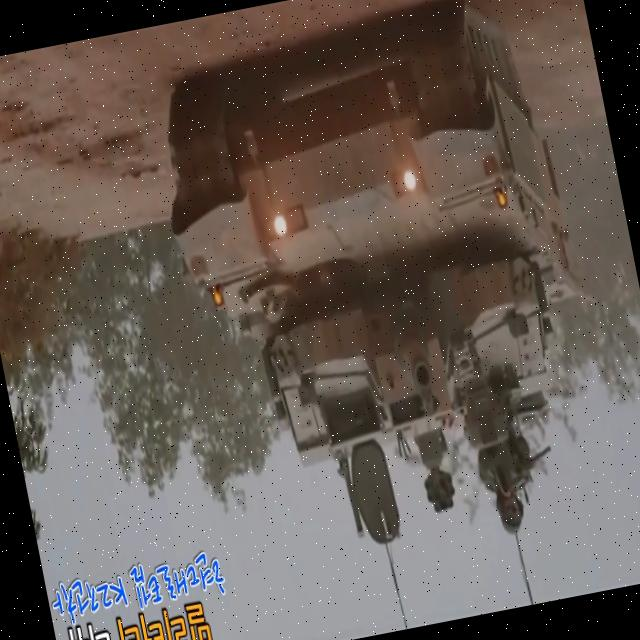korea tank: (139, 0, 624, 588)
